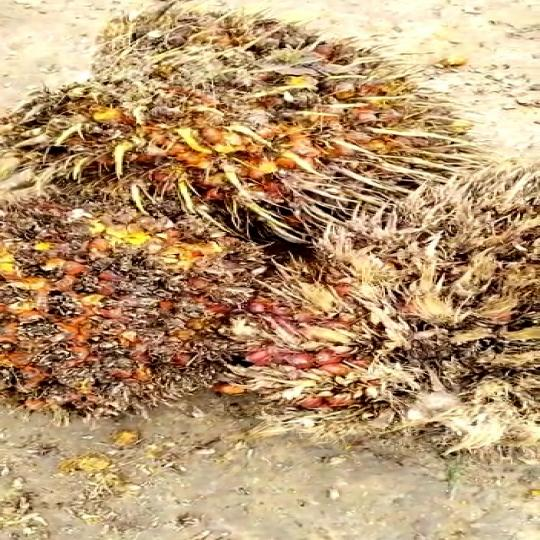terlalu masak: (0, 16, 481, 252), (211, 158, 540, 453), (0, 189, 274, 433)
